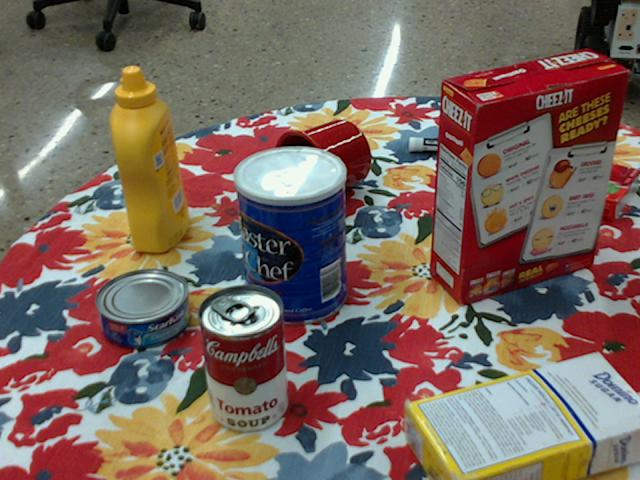cracker_box: (433, 51, 629, 305)
gelatin_box: (551, 155, 637, 220)
large_marker: (409, 136, 505, 153)
master_chef_can: (232, 145, 345, 325)
mug: (272, 119, 370, 210)
mustard_bottle: (110, 67, 189, 253)
sugar_box: (404, 351, 639, 479)
tomato_soup_can: (196, 284, 286, 432)
tuna_fish_can: (95, 267, 189, 346)
